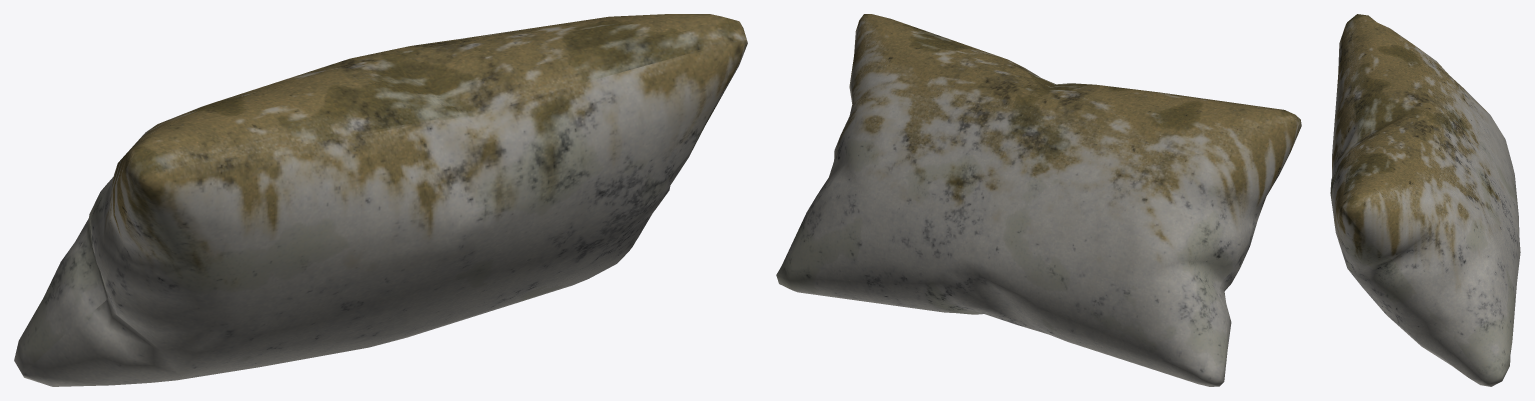
The model's file is SM_Pillow02.fbx.
3 views of the same model, side by side, from view 1: azimuth 30°, elevation 25°; view 2: azimuth 150°, elevation 25°; view 3: azimuth 270°, elevation 25° (orthographic). The views are drawn at different scales.
Visible parts, largest first — view 1: SM_Pillow02_LOD0; view 2: SM_Pillow02_LOD0; view 3: SM_Pillow02_LOD0.
Part boxes in pixels (x1=…): SM_Pillow02_LOD0: x1=14, y1=14, x2=747, y2=386; SM_Pillow02_LOD0: x1=776, y1=14, x2=1301, y2=386; SM_Pillow02_LOD0: x1=1330, y1=14, x2=1520, y2=386.
Bounding box in the file's own units: 74.39 × 31.97 × 36.52.
